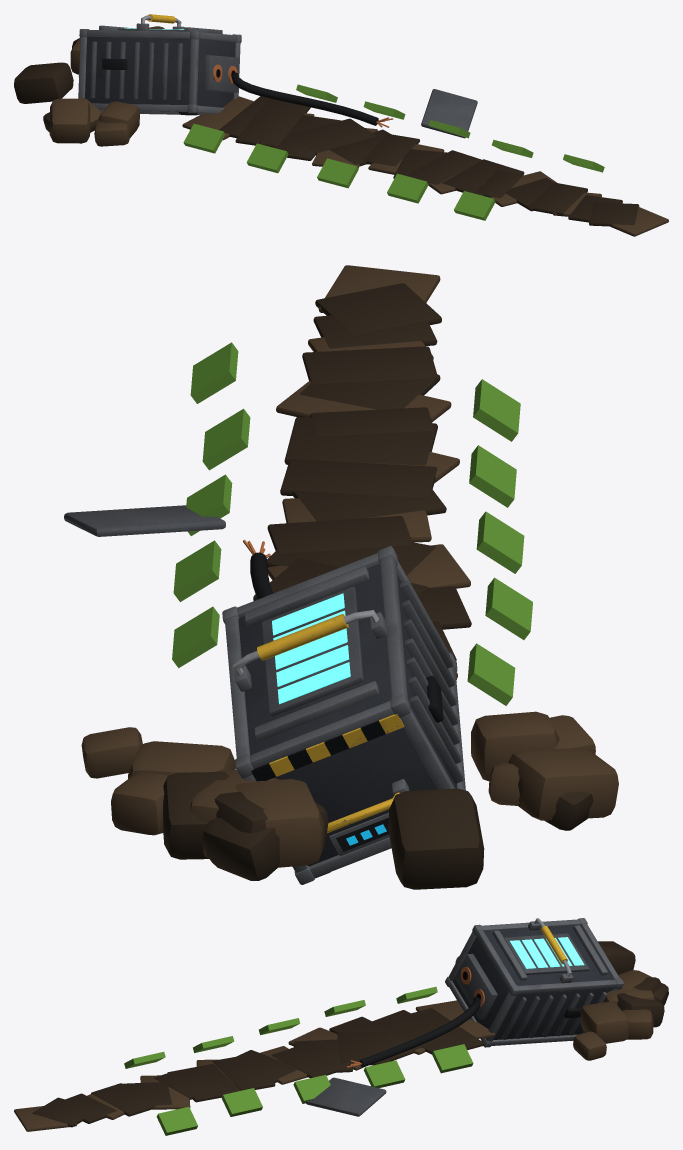
Rendered from master_battery_fallen.glb.
3 renders of one model, top to bottom at view 1: azimuth 30°, elevation 25°; view 2: azimuth 150°, elevation 25°; view 3: azimuth 270°, elevation 25°, orthographic. The views are drawn at different scales.
Parts seen in each view (by area): view 1: Ground, Cell; view 2: Ground, Cell; view 3: Ground, Cell.
Part boxes in pixels (bbox=[...]): Ground: bbox=[14, 26, 668, 236]; Cell: bbox=[78, 14, 241, 115]; Ground: bbox=[64, 265, 618, 889]; Cell: bbox=[222, 546, 465, 884]; Ground: bbox=[14, 941, 668, 1135]; Cell: bbox=[445, 918, 623, 1047].
Size of the model in its own units: 2.26 by 0.6904 by 3.35.
17 materials, 6 textured.
